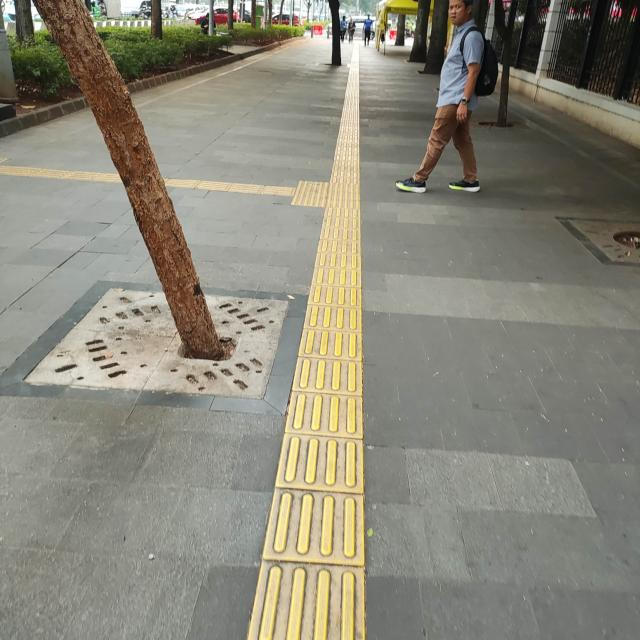lurus: (289, 219, 361, 640), (326, 59, 372, 173)
